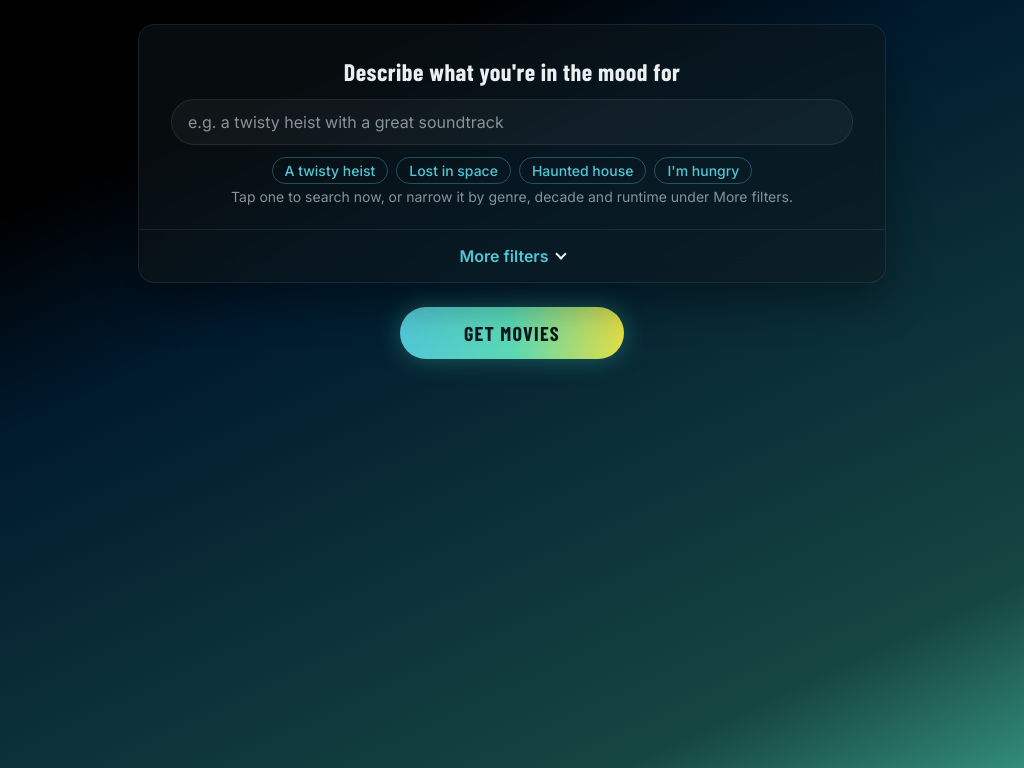
Test: <ChoiceFormContainer/> text search › a chip fills the box and searches at once with the full range
Click the button "A twisty heist" at (330, 170), box [272,157,388,184]
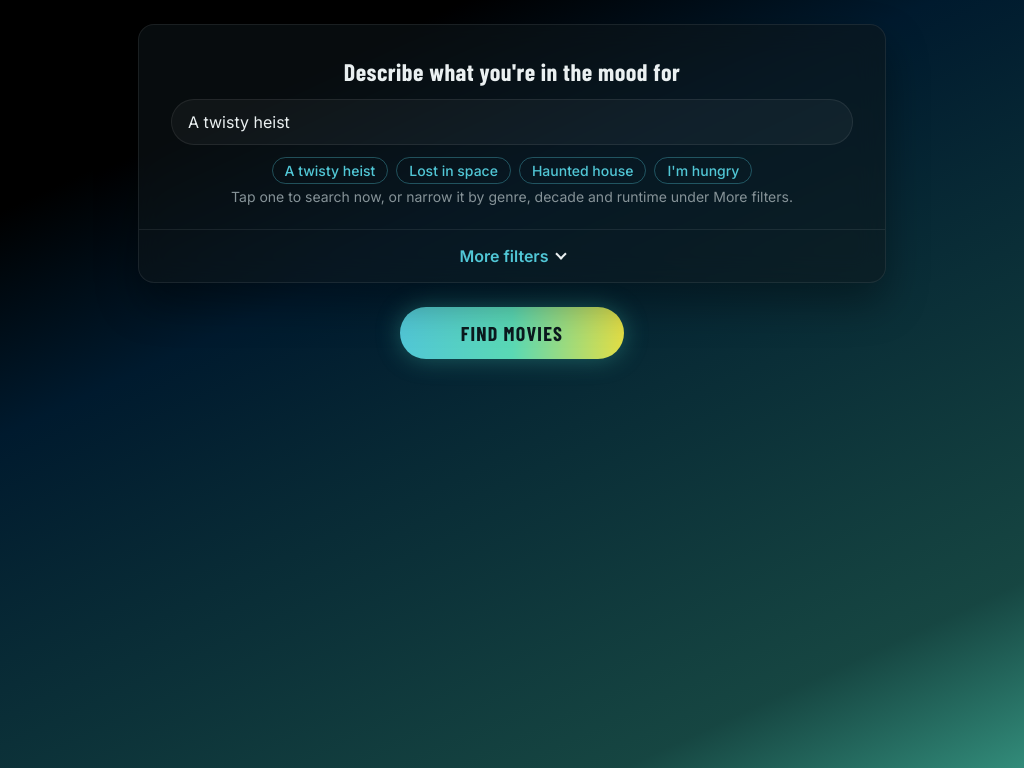
Expected: the search field labelled "Describe what you're in the mood for" holds "A twisty heist", [171,99,853,145]
